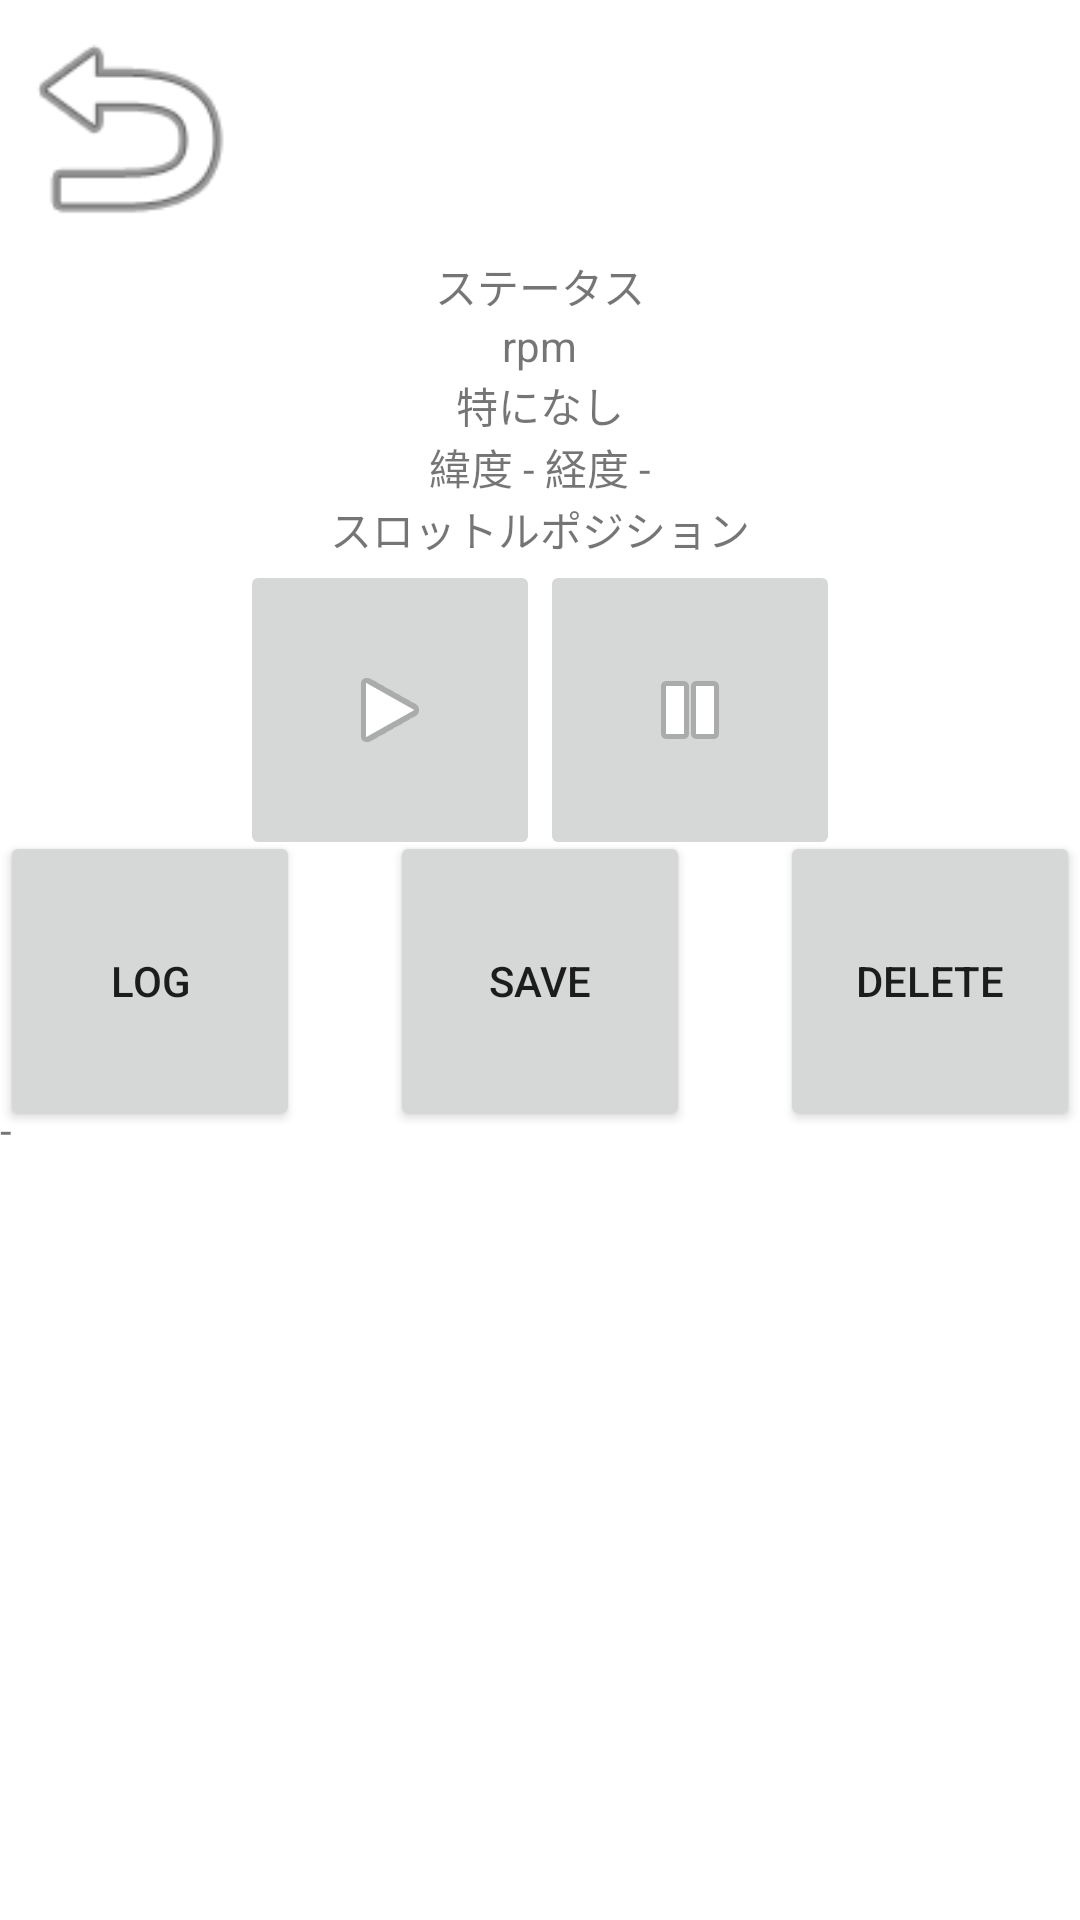

Screen size 1080*1920. Icon name, then its box in pixels as (x1, y1, x2, y2):
back: (39, 46, 223, 213)
start: (252, 578, 528, 842)
